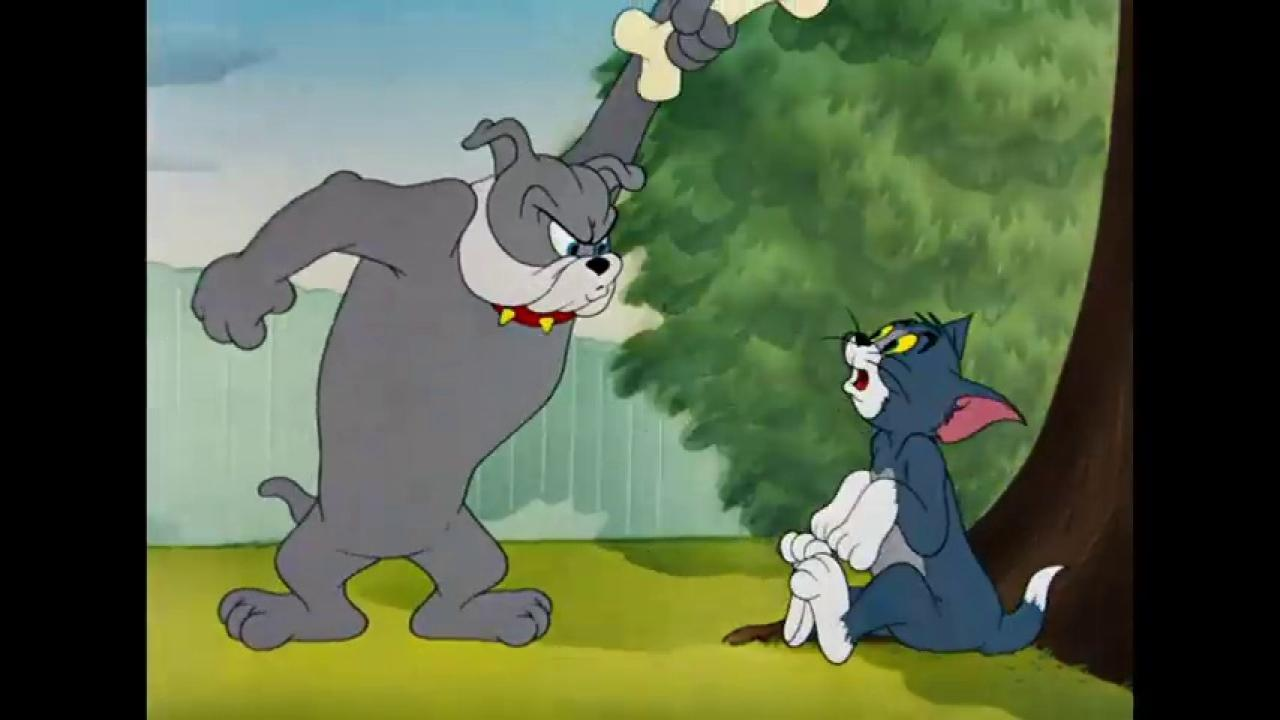Tom: (776, 307, 1070, 667)
